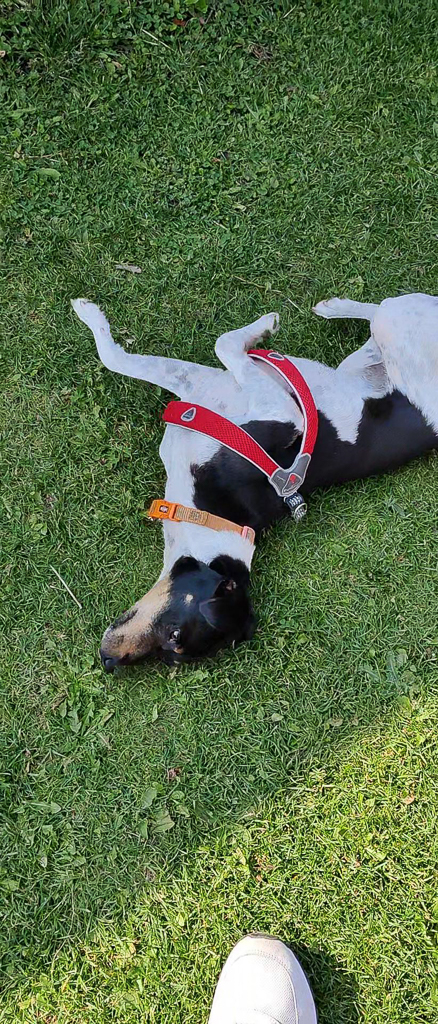Dog: (60, 270, 438, 695)
Humanoid: (191, 912, 352, 1024)
